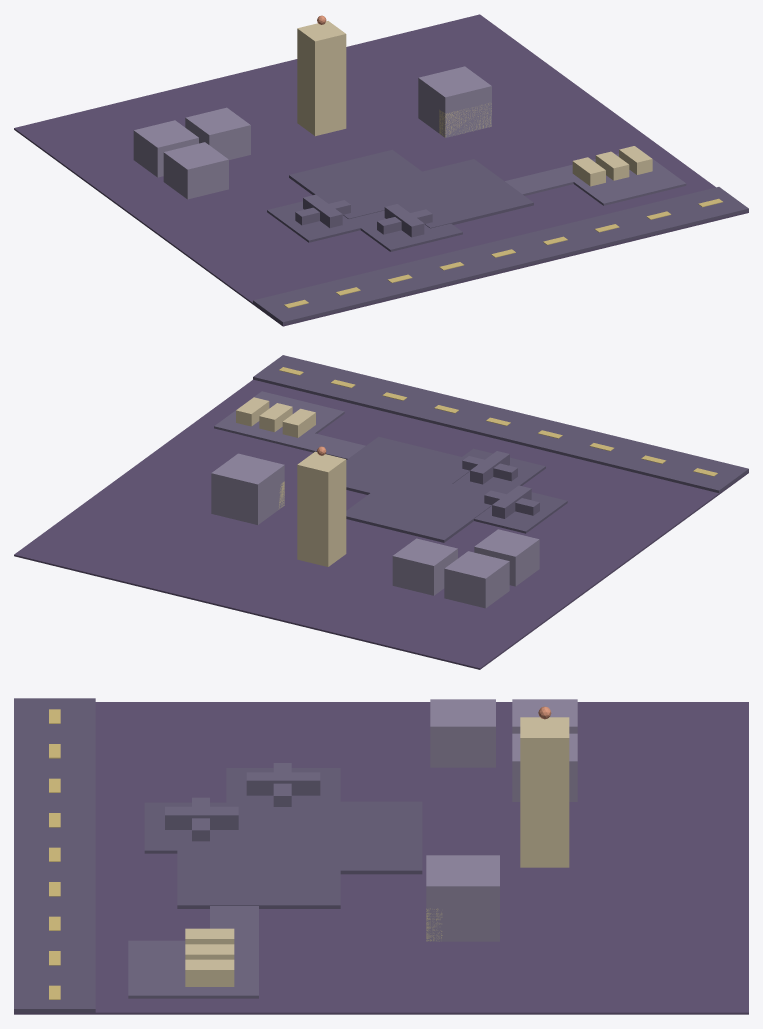
Rendered from stage_11.glb.
The picture shows the model from 3 angles, top to bottom: view 1: azimuth 30°, elevation 25°; view 2: azimuth 150°, elevation 25°; view 3: azimuth 270°, elevation 25°; orthographic projection. The views are drawn at different scales.
Parts seen in each view (by area): view 1: geometry_0; view 2: geometry_0; view 3: geometry_0.
Part boxes in pixels (x1,y1,x2,y2): geometry_0: (14, 14, 748, 326); geometry_0: (14, 355, 748, 669); geometry_0: (14, 698, 748, 1014).
Size of the model in its own units: 9 by 2.06 by 9.
